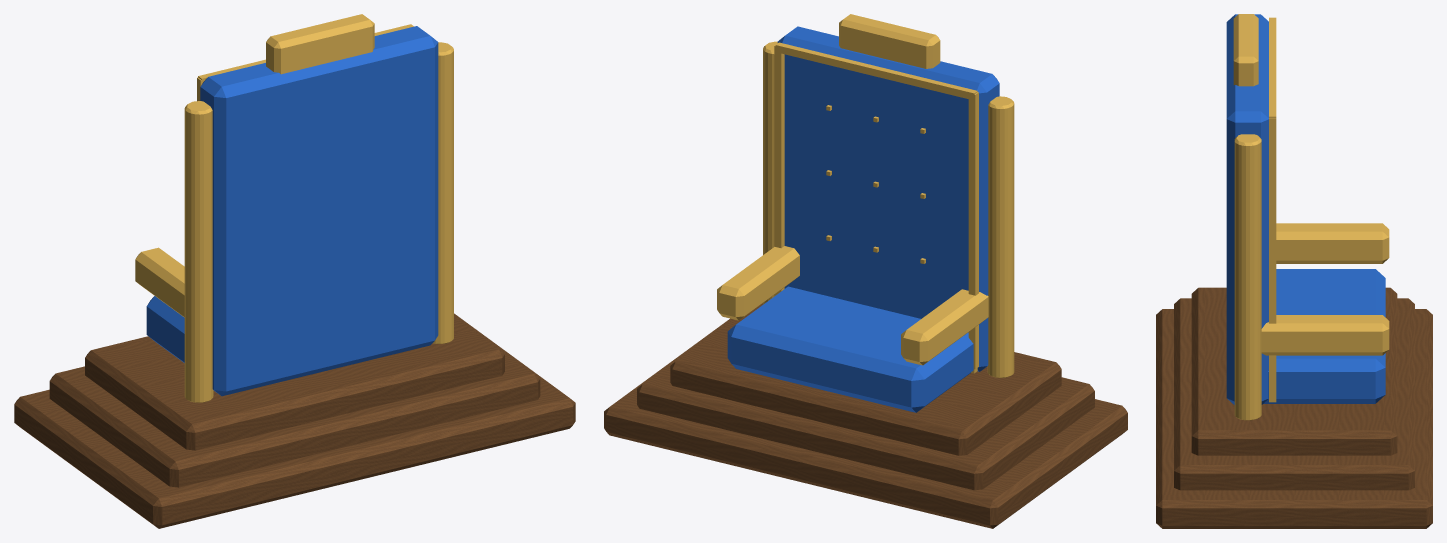
Rendered from throne.glb.
3 views of the same model, side by side, from view 1: azimuth 30°, elevation 25°; view 2: azimuth 150°, elevation 25°; view 3: azimuth 270°, elevation 25° (orthographic). The views are drawn at different scales.
Parts seen in each view (by area): view 1: Throne back, Throne dais step, Throne dais step.002, Throne dais step.001, Throne carved post, Throne carved post.001, Throne crown crest, Throne arm, Throne seat; view 2: Throne back, Throne dais step, Throne seat, Throne dais step.002, Throne dais step.001, Throne carved post, Throne crown crest, Throne arm, Throne arm.001, Throne carved post.001, Gilded back edge, Gilded back cross trim.001 (+1 smaller); view 3: Throne dais step, Throne dais step.002, Throne dais step.001, Throne seat, Throne carved post.001, Throne back, Throne arm.001, Throne arm, Gilded back edge.001, Throne crown crest, Gilded back cross trim.001.
Part boxes in pixels (x1,y1,x2,y2): Throne back: (200,26,438,396); Throne dais step: (14,313,575,528); Throne dais step.002: (85,316,504,450); Throne dais step.001: (49,315,540,487); Throne carved post: (184,101,213,402); Throne carved post.001: (433,42,453,343); Throne crown crest: (266,14,374,74); Throne arm: (135,247,184,317); Throne seat: (146,296,184,362); Throne back: (777,26,999,371); Throne dais step: (604,318,1127,528); Throne seat: (727,286,973,412); Throne dais step.002: (670,303,1061,455); Throne dais step.001: (637,319,1094,490); Throne carved post: (987,96,1014,377); Throne crown crest: (839,14,940,68); Throne arm: (901,289,988,365); Throne arm.001: (717,246,799,320); Throne carved post.001: (763,41,777,304); Gilded back edge: (968,92,978,369); Gilded back cross trim.001: (775,42,977,100); Throne dais step: (1156,309,1432,528); Throne dais step.002: (1191,287,1397,455); Throne dais step.001: (1174,298,1414,490); Throne seat: (1263,269,1385,403); Throne carved post.001: (1234,134,1261,420); Throne back: (1226,14,1268,404); Throne arm.001: (1261,315,1389,355); Throne arm: (1276,223,1389,263); Gilded back edge.001: (1269,118,1276,398); Throne crown crest: (1233,14,1258,86); Gilded back cross trim.001: (1269,17,1276,117).
Bounding box in the file's own units: 2.6 × 2.46 × 1.55.
4 materials, 2 textured.
